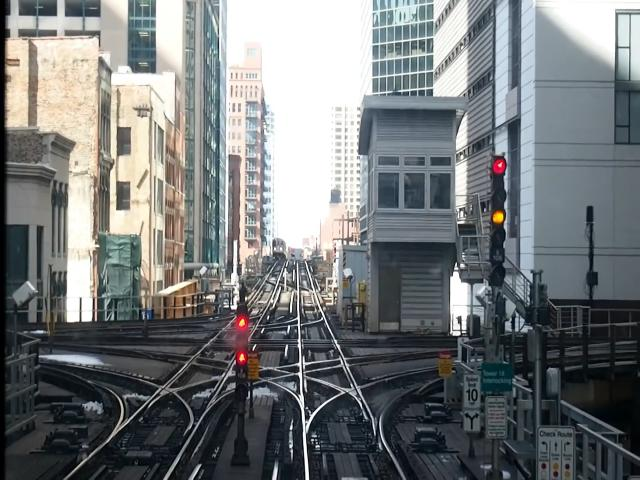signal light: (484, 151, 511, 298), (235, 305, 253, 414)
